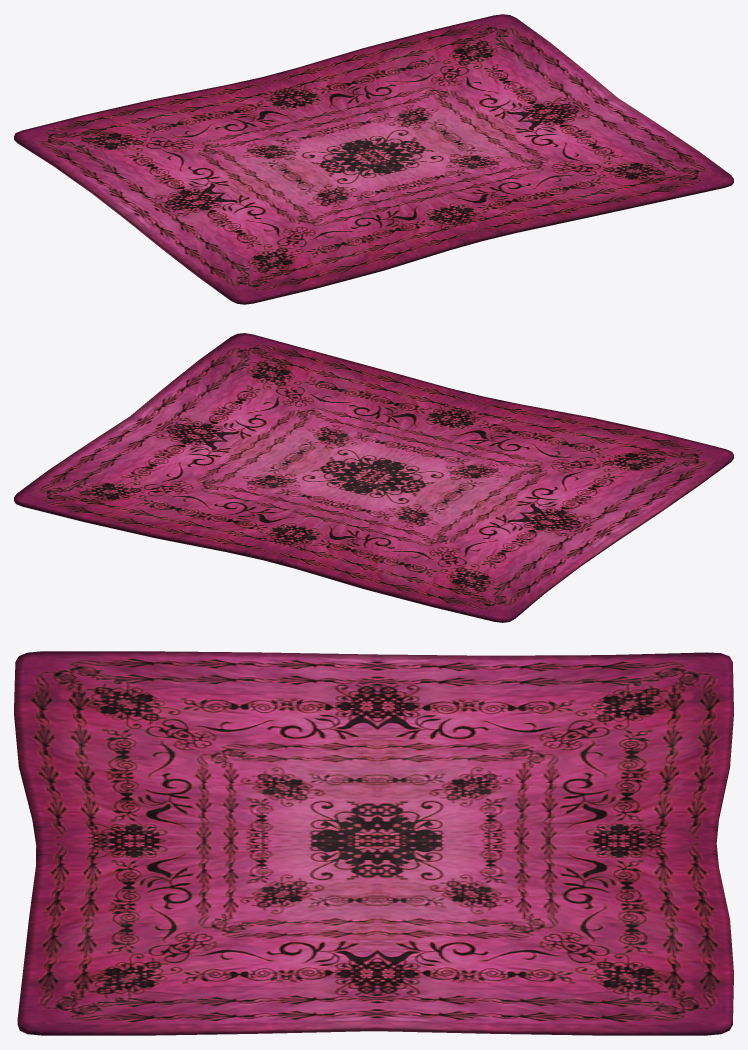
The model's file is LingerieCarpet_HD.fbx.
3 renders of one model, top to bottom at view 1: azimuth 30°, elevation 25°; view 2: azimuth 150°, elevation 25°; view 3: azimuth 270°, elevation 25°, orthographic. The views are drawn at different scales.
Parts seen in each view (by area): view 1: LingerieCarpet; view 2: LingerieCarpet; view 3: LingerieCarpet.
Part boxes in pixels (left/top/right/bottom): LingerieCarpet: left=14, top=14, right=733, bottom=304; LingerieCarpet: left=14, top=333, right=733, bottom=622; LingerieCarpet: left=14, top=651, right=733, bottom=1035.
Size of the model in its own units: 2.31 by 0.016 by 1.86.
